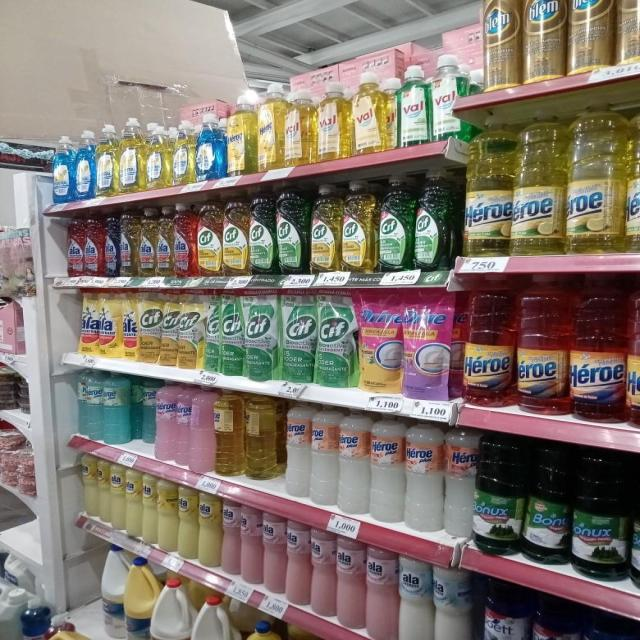ala_conc_amarillo: (120, 206, 138, 278), (139, 206, 156, 278), (157, 205, 173, 278)
ala_conc_azul: (104, 207, 119, 277)
ala_conc_rojo: (174, 202, 195, 278), (85, 208, 104, 278), (66, 210, 84, 277)
ala_crem_amarillo: (198, 491, 220, 569), (177, 486, 197, 561), (125, 467, 142, 540), (142, 474, 157, 547), (110, 463, 125, 532)
ala_crem_blanco: (434, 562, 474, 640), (398, 555, 432, 640)
ala_crem_rosado: (366, 544, 397, 640), (336, 536, 365, 632), (310, 528, 335, 618), (285, 520, 310, 607), (220, 498, 240, 578)
ala_sachet_amarillo: (78, 289, 100, 357), (100, 289, 120, 359), (120, 289, 138, 361)
cif_conc_bot_amarilla: (340, 180, 375, 272), (309, 183, 340, 274), (222, 195, 248, 276), (197, 200, 221, 276)
cif_conc_botella_verde: (414, 167, 451, 271), (377, 172, 412, 272), (276, 186, 307, 274), (248, 190, 275, 275)
cif_conc_sachet_amarillo: (522, 0, 566, 80), (568, 0, 613, 71), (178, 289, 202, 370), (139, 289, 160, 363), (616, 0, 640, 63), (160, 290, 178, 367)
cif_conc_sachet_verde: (316, 290, 356, 388), (281, 291, 314, 384), (245, 290, 278, 381), (220, 291, 243, 376), (203, 290, 220, 373)
drive: (359, 288, 402, 394)
heroe: (405, 419, 443, 533), (370, 412, 404, 524), (338, 408, 369, 515), (310, 404, 338, 508), (284, 401, 311, 502), (102, 371, 134, 445), (76, 369, 102, 443)
magistral_con_amarillo: (119, 117, 142, 194), (96, 124, 117, 197), (144, 121, 166, 190), (171, 120, 192, 186), (242, 617, 284, 640)
